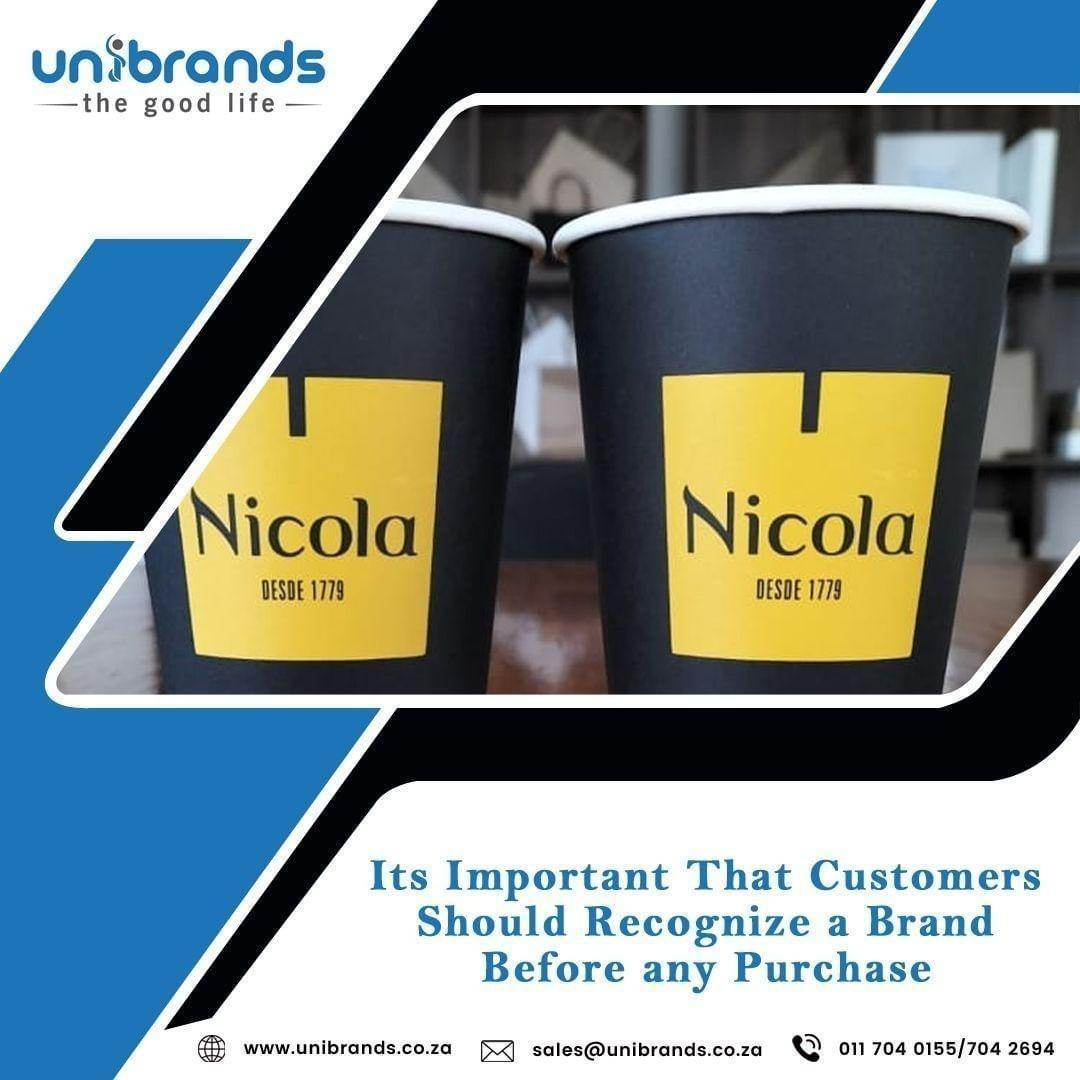cup-disposable: (550, 179, 1036, 697), (109, 195, 542, 698)
